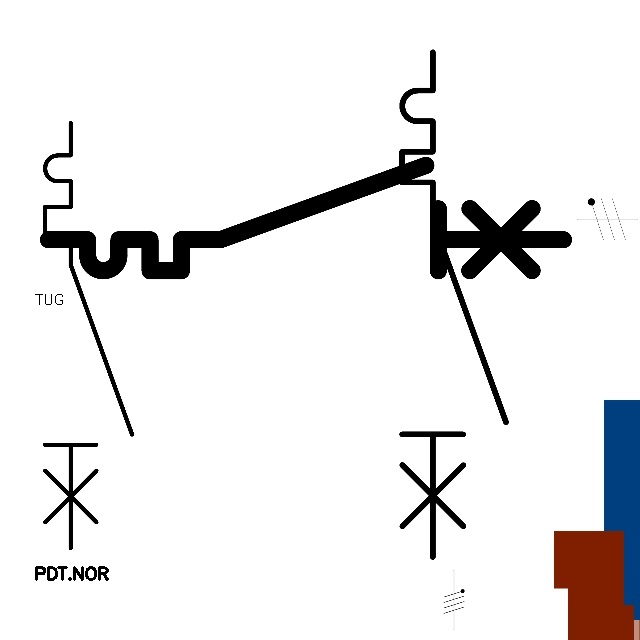interruptor_termomagnetico: (35, 152, 576, 284), (389, 39, 519, 569), (34, 112, 143, 559)
